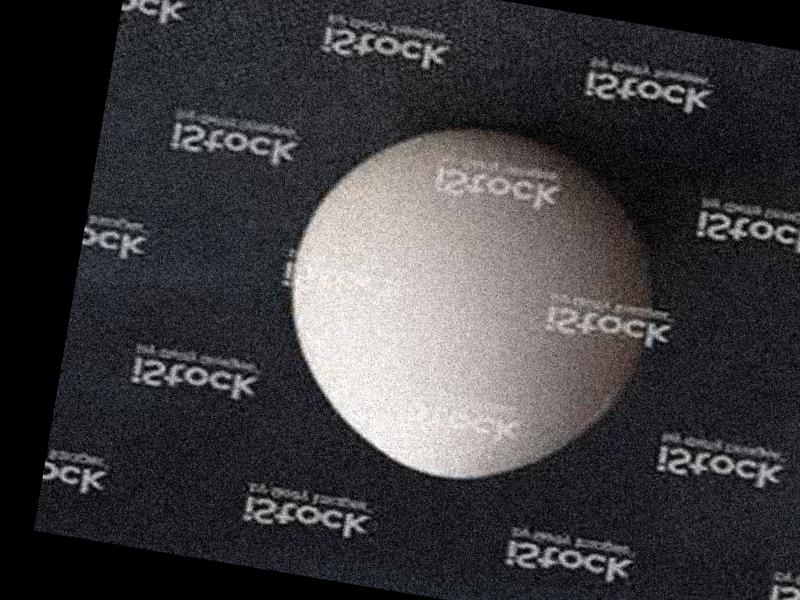Eggs: (264, 99, 677, 506)
